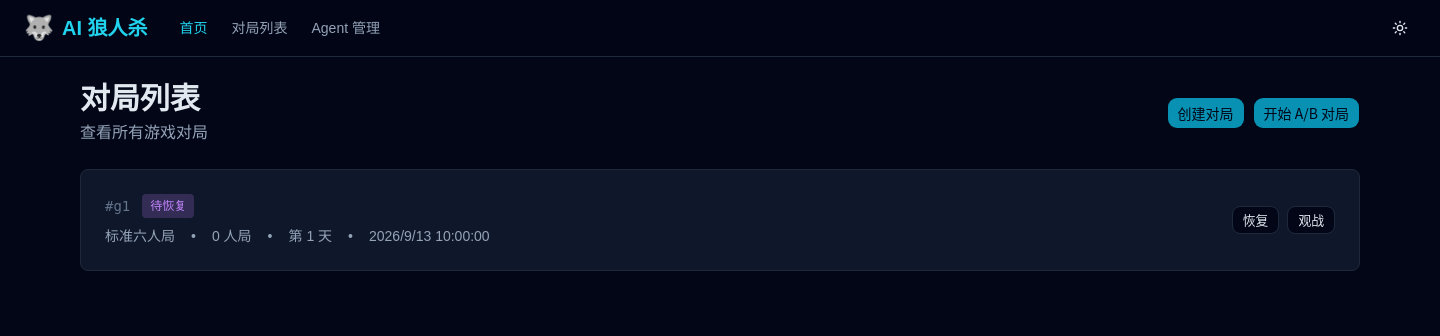
Test: 恢复被拒时显示后端给出的原因
The width and height of the screenshot is (1440, 336).
What coordinates should you click on to do the following:
click the button "恢复"
I would click on:
 (1256, 220)
Its box is [1232,206,1279,234].
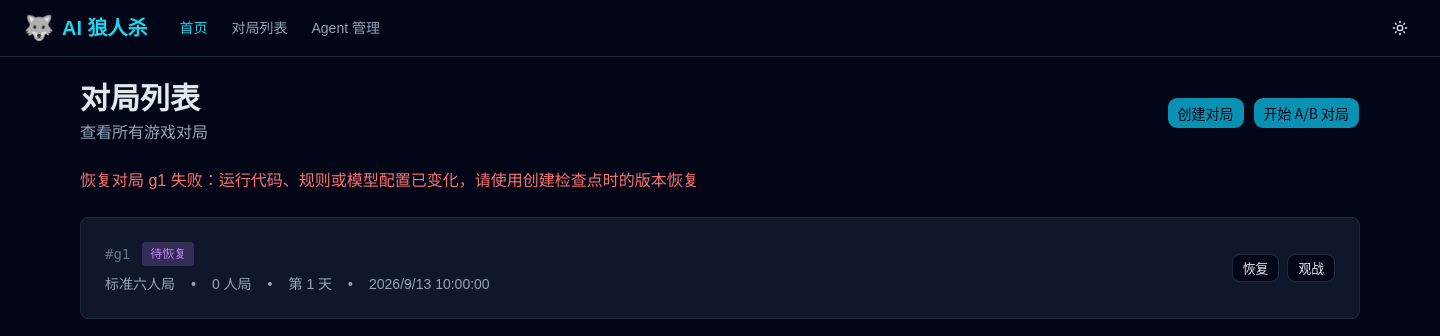
Now the message shows "运行代码、规则或模型配置已变化，请使用创建检查点时的版本恢复", box [80,172,699,189]
